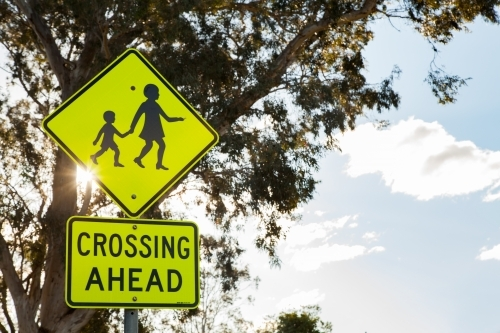slow: (39, 48, 221, 220)
